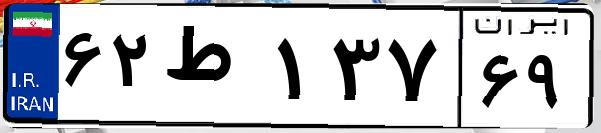1: (270, 28, 330, 110)
2: (110, 28, 158, 98)
3: (330, 28, 385, 110)
6: (57, 26, 110, 100), (475, 38, 525, 113)
7: (385, 28, 445, 110)
9: (525, 38, 570, 115)
ط: (158, 20, 270, 120)
